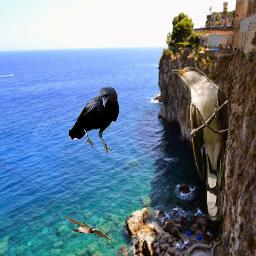Crow: (69, 87, 119, 156)
Cuckoo: (172, 66, 230, 221)
Swallow: (61, 214, 114, 241)
